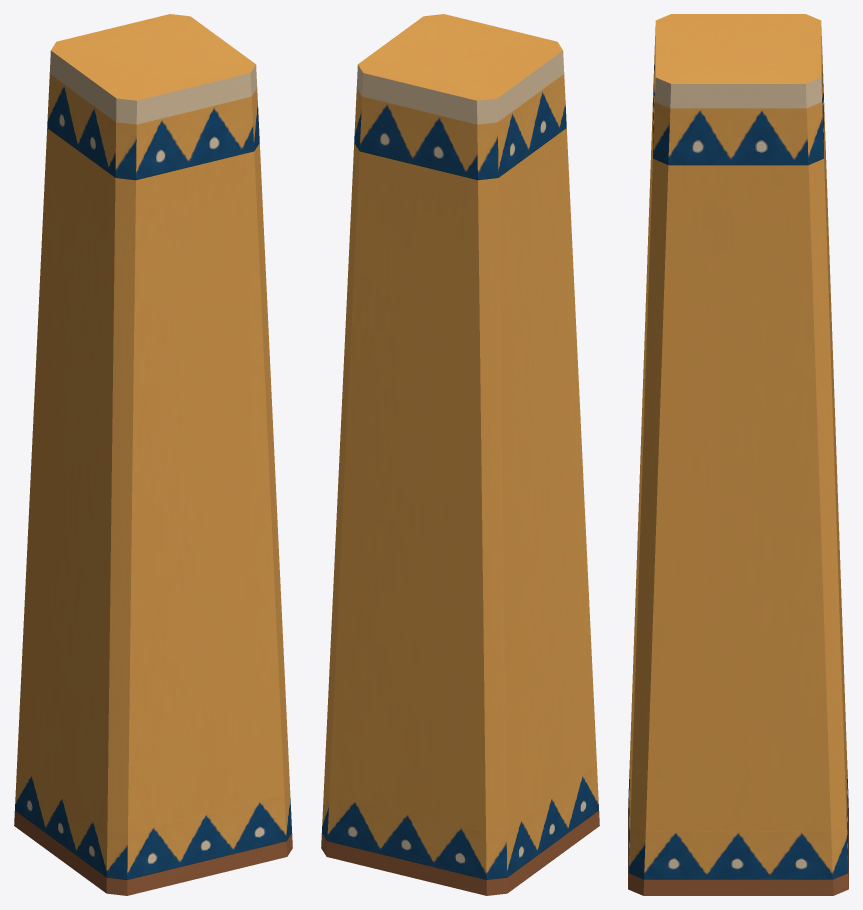
File: rc_wa_facadepier_8m.glb
3 renders of one model, left to right at view 1: azimuth 30°, elevation 25°; view 2: azimuth 150°, elevation 25°; view 3: azimuth 270°, elevation 25°, orthographic. The views are drawn at different scales.
Parts seen in each view (by area): view 1: SM_RC_WA_FacadePier_8m; view 2: SM_RC_WA_FacadePier_8m; view 3: SM_RC_WA_FacadePier_8m.
Part boxes in pixels (left/top/right/bottom): SM_RC_WA_FacadePier_8m: left=14, top=14, right=292, bottom=895; SM_RC_WA_FacadePier_8m: left=321, top=14, right=599, bottom=895; SM_RC_WA_FacadePier_8m: left=628, top=14, right=848, bottom=895.
Bounding box in the file's own units: 2 × 8 × 2.
1 material, 1 textured.
